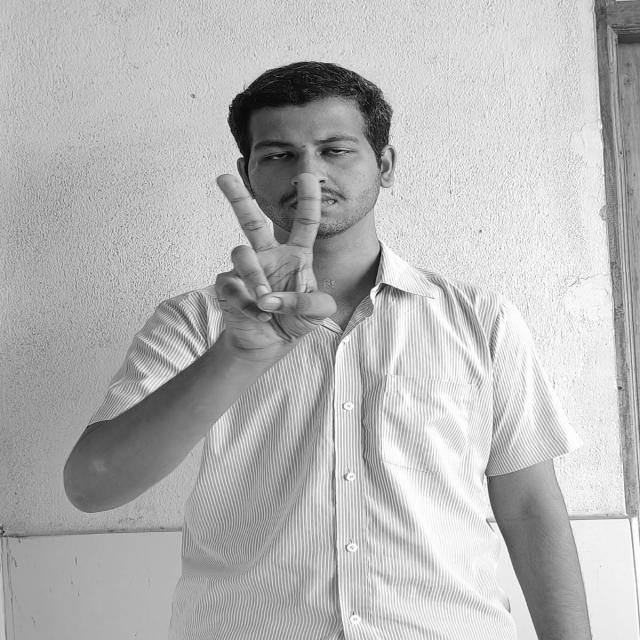Victory: (210, 170, 338, 354)
